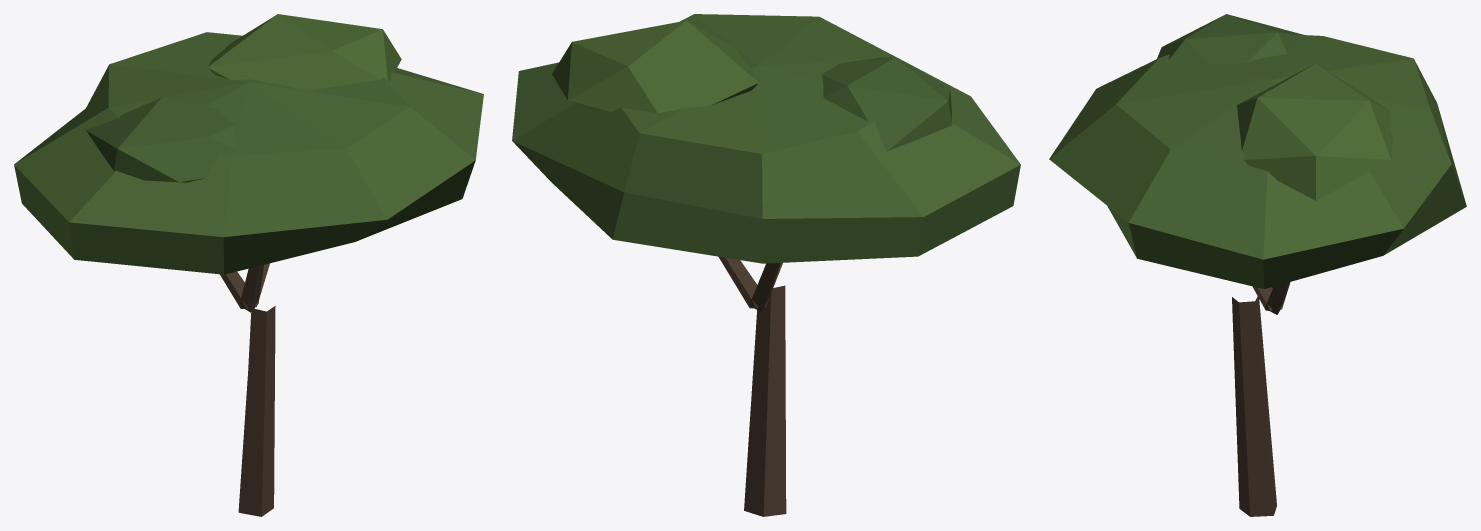
Rendered from aleppo_pine.glb.
3 views of the same model, side by side, from view 1: azimuth 30°, elevation 25°; view 2: azimuth 150°, elevation 25°; view 3: azimuth 270°, elevation 25° (orthographic). The views are drawn at different scales.
Parts seen in each view (by area): view 1: aleppo_pine; view 2: aleppo_pine; view 3: aleppo_pine.
Part boxes in pixels (x1,y1,x2,y2): aleppo_pine: (14,14,483,516); aleppo_pine: (512,14,1020,516); aleppo_pine: (1049,14,1466,516).
Size of the model in its own units: 9.36 by 8.9 by 7.47.
